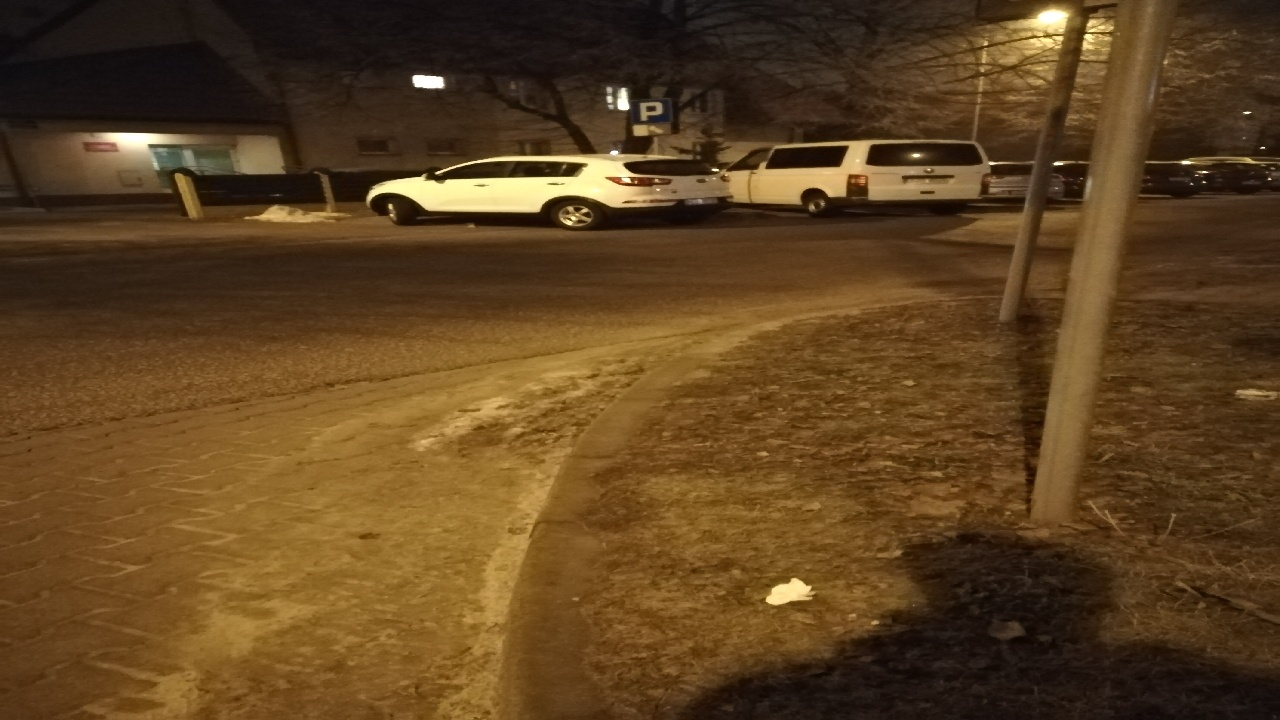D18: (631, 98, 672, 124)
